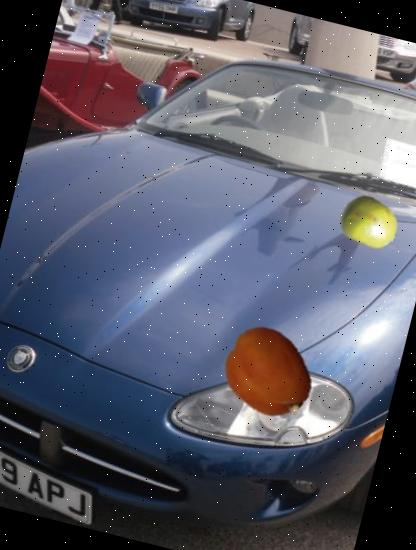Apricot: (212, 316, 326, 430)
Pomelo: (333, 187, 405, 259)
